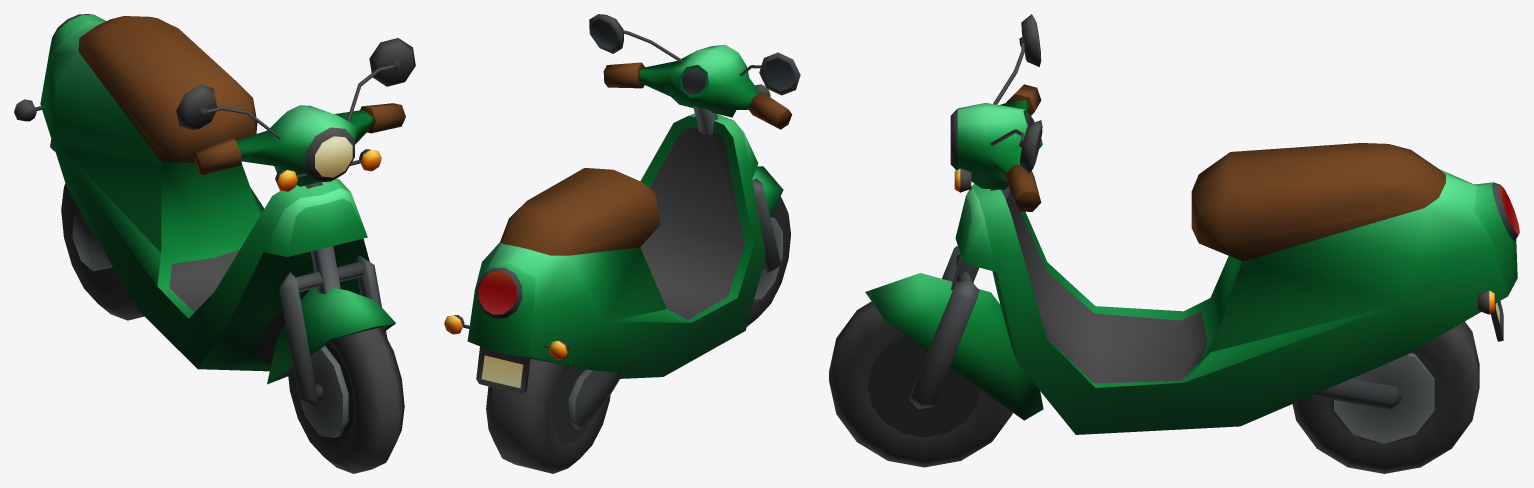
The model's file is Scooter_1B.fbx.
3 renders of one model, left to right at view 1: azimuth 30°, elevation 25°; view 2: azimuth 150°, elevation 25°; view 3: azimuth 270°, elevation 25°, orthographic. The views are drawn at different scales.
Visible parts, largest first — view 1: Scooter_1B_Body, Scooter_1B_Handlebars, Scooter_1B_Wheel.F, Scooter_1B_Wheel.R; view 2: Scooter_1B_Body, Scooter_1B_Handlebars, Scooter_1B_Wheel.R, Scooter_1B_Wheel.F; view 3: Scooter_1B_Body, Scooter_1B_Handlebars, Scooter_1B_Wheel.F, Scooter_1B_Wheel.R.
Boxes of the visible parts, left/top/right/bottom form: Scooter_1B_Body: left=14, top=14, right=369, bottom=371; Scooter_1B_Handlebars: left=176, top=38, right=415, bottom=409; Scooter_1B_Wheel.F: left=288, top=327, right=404, bottom=473; Scooter_1B_Wheel.R: left=61, top=183, right=144, bottom=320; Scooter_1B_Body: left=444, top=113, right=765, bottom=429; Scooter_1B_Handlebars: left=589, top=14, right=800, bottom=273; Scooter_1B_Wheel.R: left=486, top=359, right=610, bottom=473; Scooter_1B_Wheel.F: left=747, top=196, right=790, bottom=326; Scooter_1B_Body: left=955, top=143, right=1519, bottom=434; Scooter_1B_Handlebars: left=865, top=14, right=1043, bottom=420; Scooter_1B_Wheel.F: left=829, top=301, right=1012, bottom=467; Scooter_1B_Wheel.R: left=1292, top=321, right=1479, bottom=473.
Bounding box in the file's own units: 1.13 × 1.66 × 2.62.
